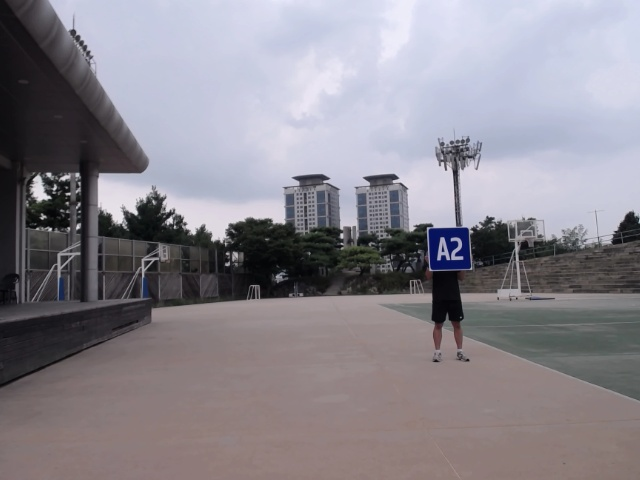delivery_a2: (428, 227, 472, 270)
